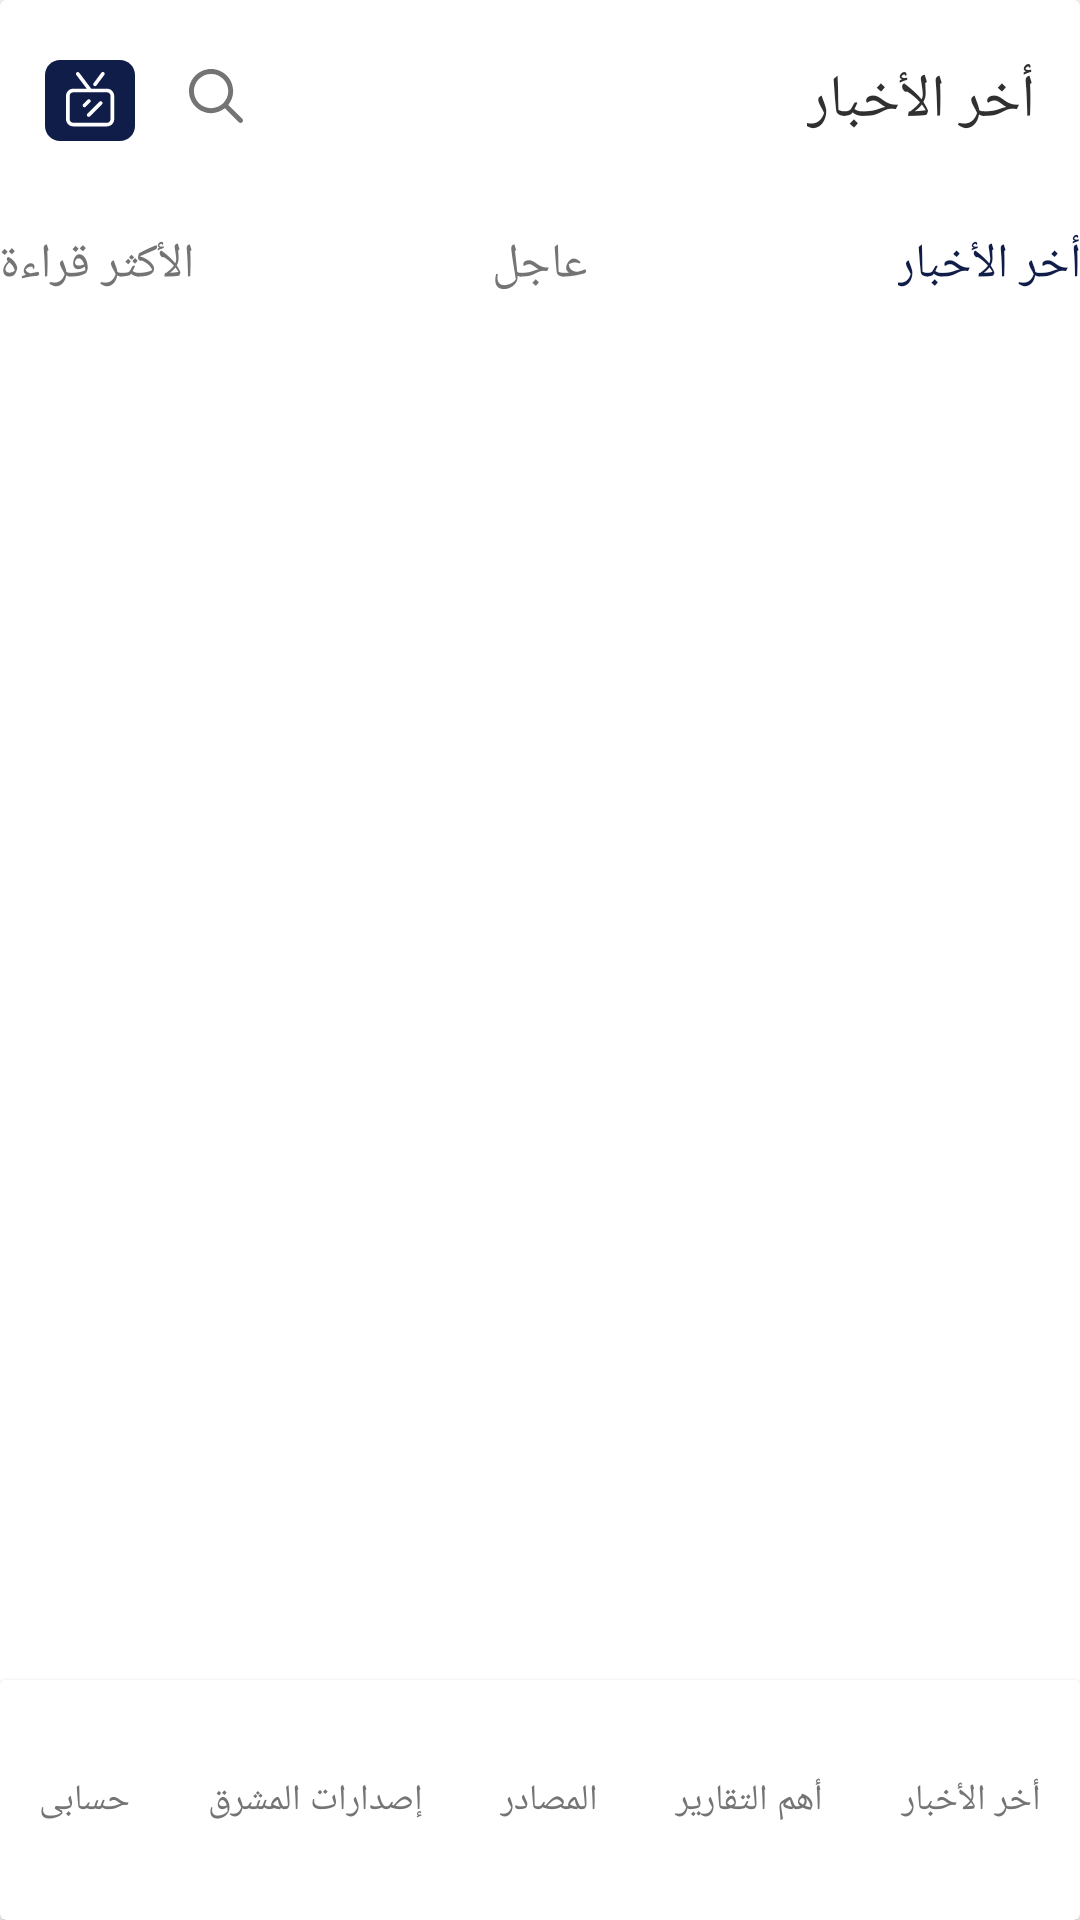

Icon bounding boxes for this 1080 × 1920 phone screenshot, format (x1, y1, x2, y2):
search: (189, 69, 243, 123)
